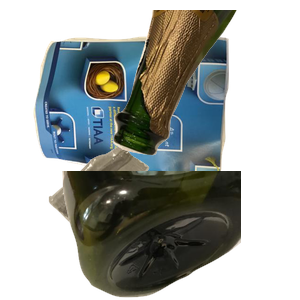glass: (111, 10, 300, 158)
paper: (31, 34, 252, 205)
plastic: (60, 171, 300, 300)
trash: (46, 144, 188, 300)
